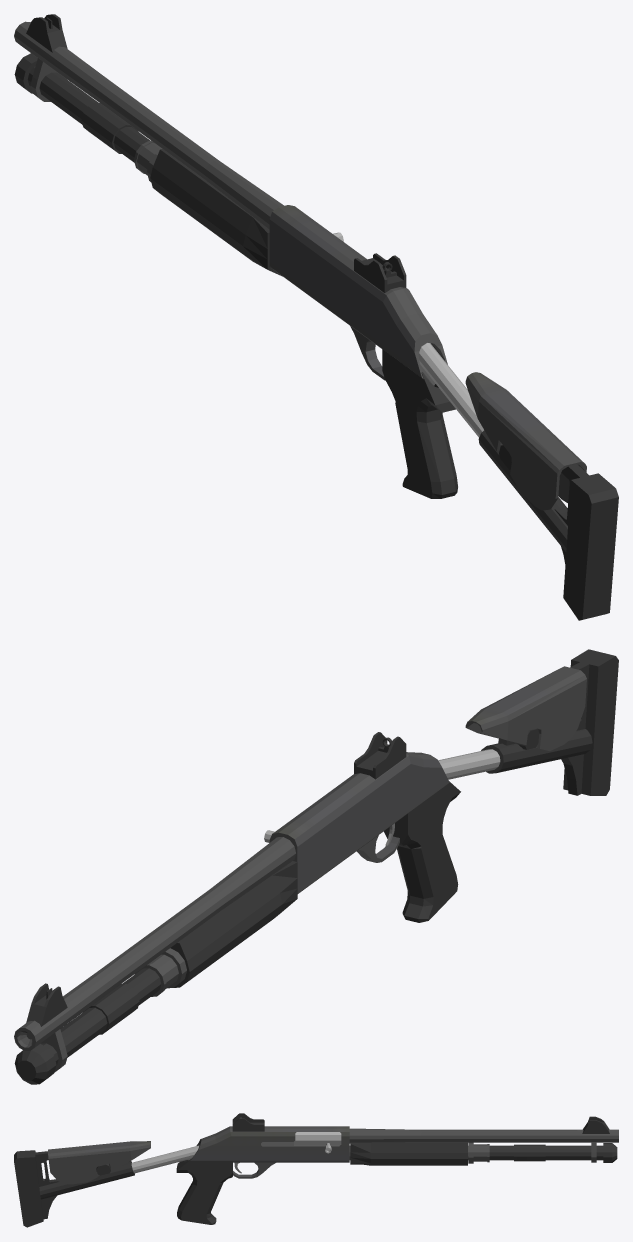
Rendered from weapon-pump.glb.
3 renders of one model, top to bottom at view 1: azimuth 30°, elevation 25°; view 2: azimuth 150°, elevation 25°; view 3: azimuth 270°, elevation 25°, orthographic. The views are drawn at different scales.
Visible parts, largest first — view 1: Bennelli_part, Pump_part; view 2: Bennelli_part, Pump_part; view 3: Bennelli_part, Pump_part.
Part boxes in pixels (x1,y1,x2,y2): Bennelli_part: [14, 14, 618, 620]; Pump_part: [150, 149, 343, 276]; Bennelli_part: [14, 649, 618, 1084]; Pump_part: [170, 830, 297, 987]; Bennelli_part: [14, 1113, 618, 1227]; Pump_part: [294, 1132, 467, 1165].
Bounding box in the file's own units: 0.427 × 1.5 × 7.6.
1 material, 1 textured.
